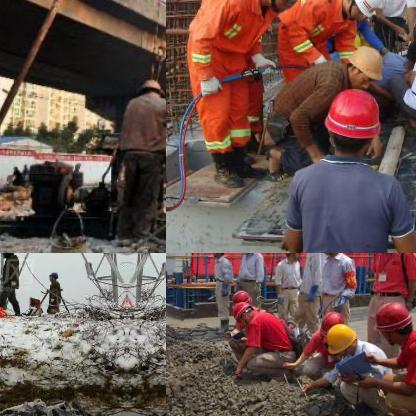Helmet: (318, 86, 384, 158), (340, 43, 384, 88), (372, 297, 414, 343), (324, 318, 358, 358), (339, 0, 385, 21), (132, 78, 164, 102), (253, 0, 307, 14), (319, 308, 343, 332), (229, 297, 251, 319), (228, 286, 252, 306), (282, 253, 302, 261), (207, 253, 229, 260), (46, 272, 56, 280), (0, 253, 10, 260)
